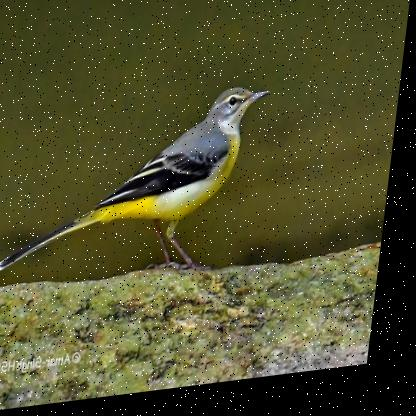Burung: (0, 89, 274, 286)
